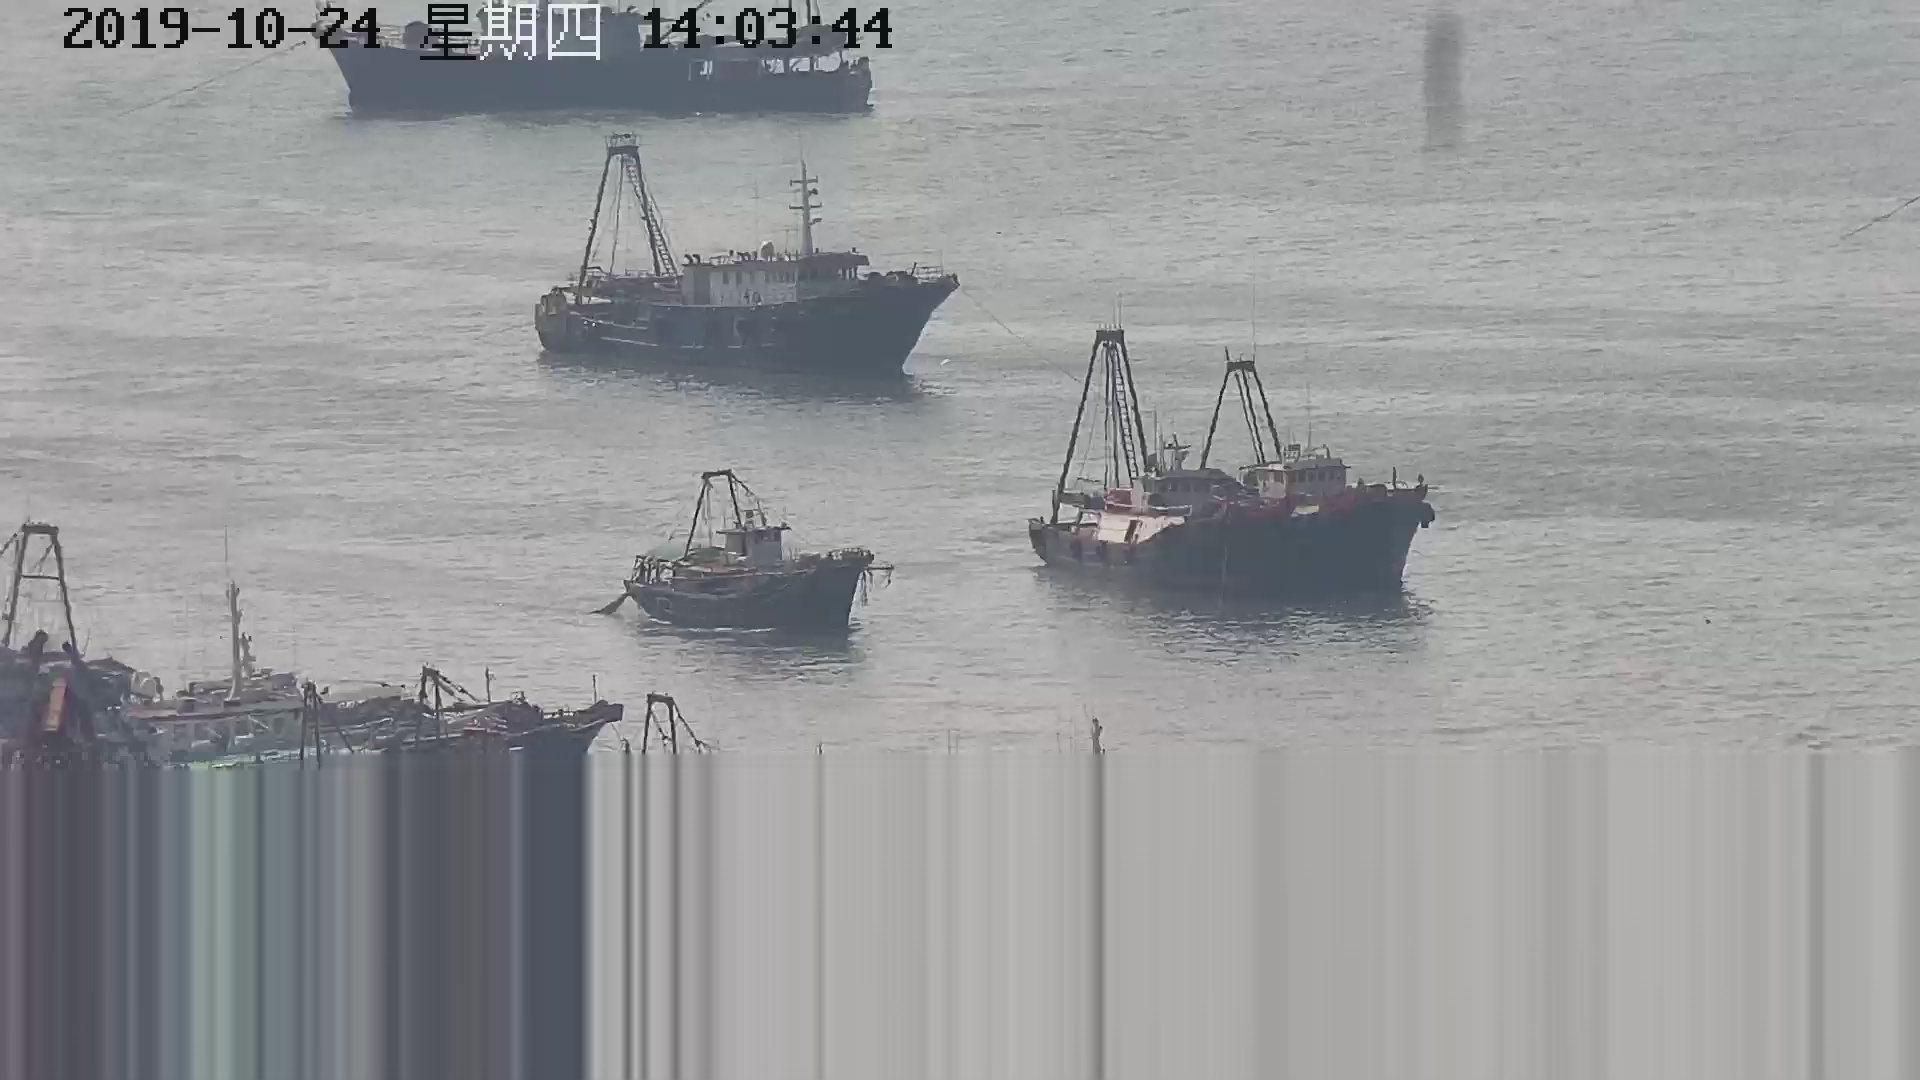ship: (1038, 327, 1441, 589), (535, 140, 963, 377), (315, 3, 876, 112), (612, 464, 885, 632)
